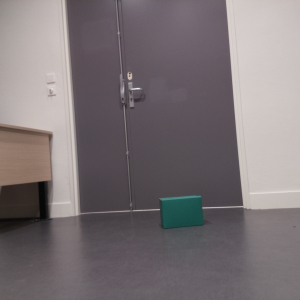small: (159, 193, 208, 230)
